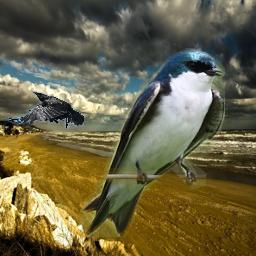Crow: (5, 91, 84, 129)
Swallow: (80, 48, 225, 237)
